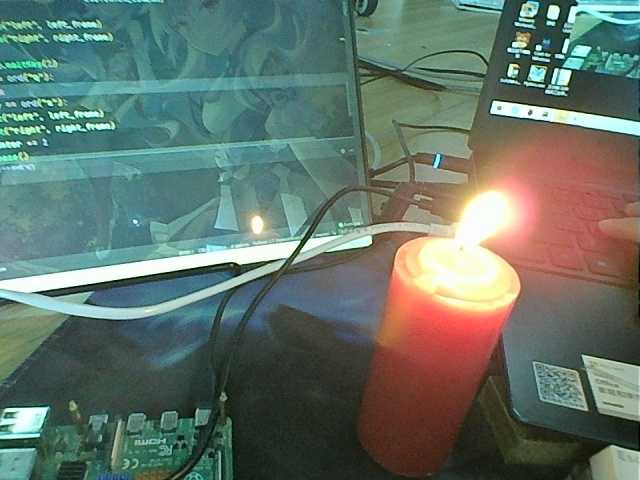candle: (378, 273, 479, 473)
fire: (450, 177, 513, 283)
